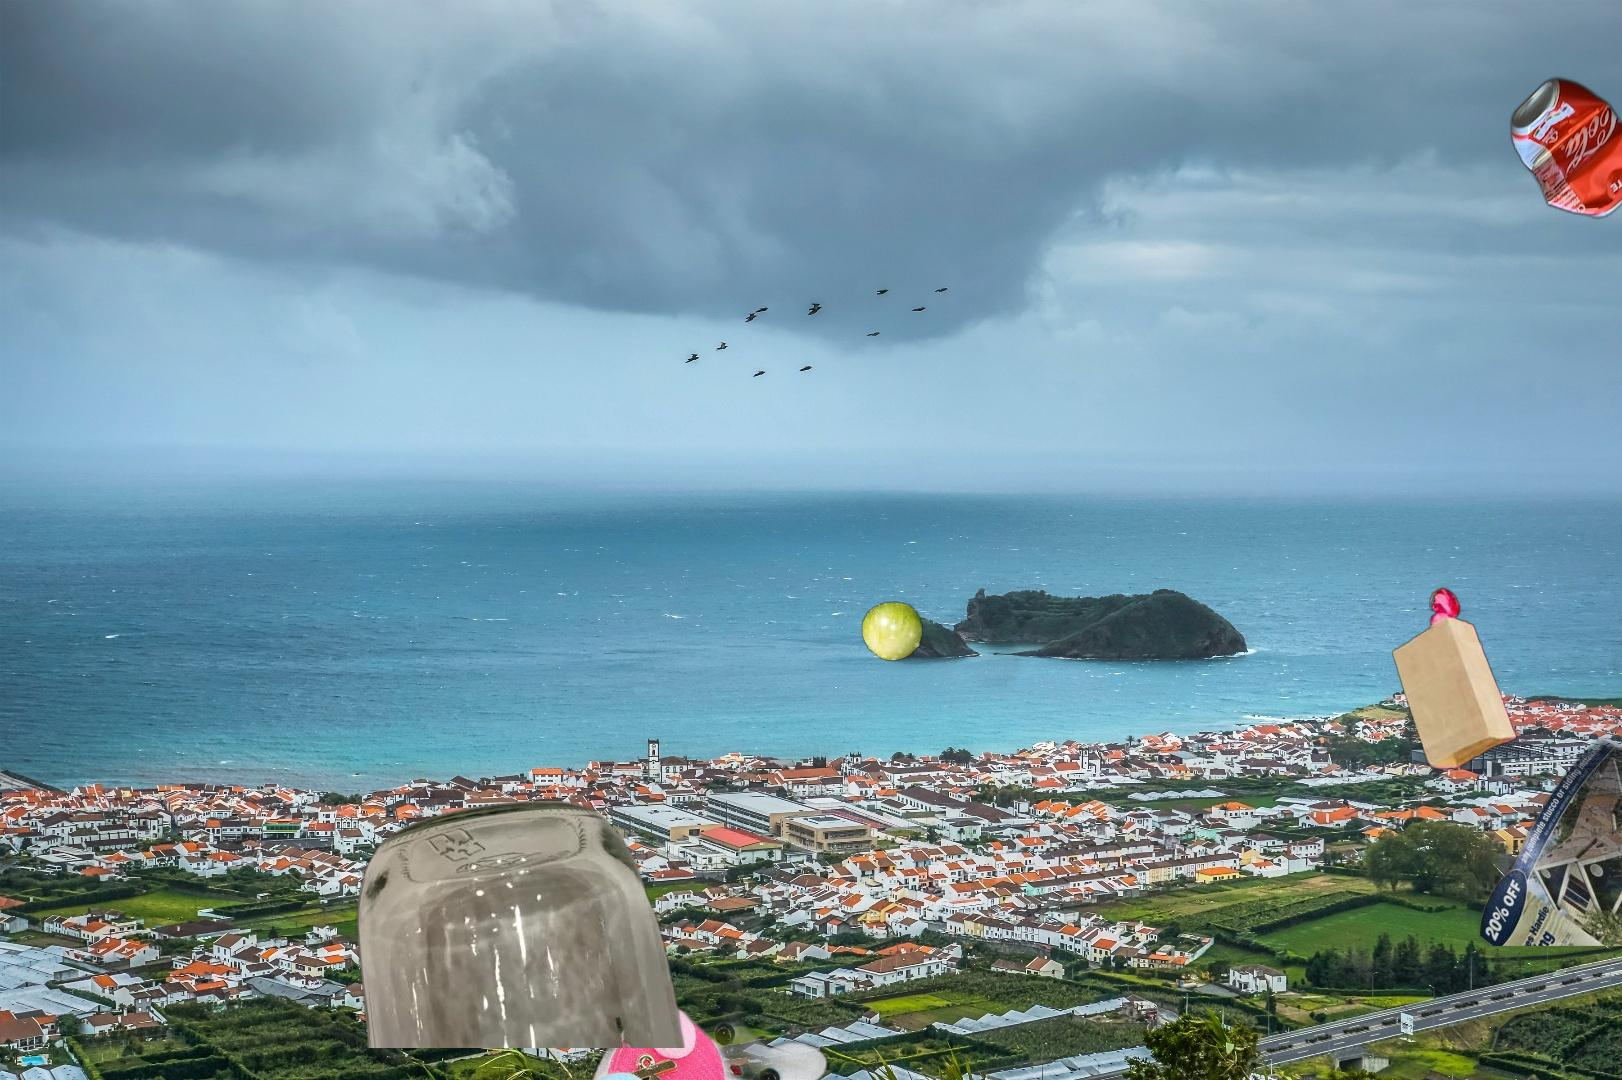biological: (859, 599, 1047, 755)
glass: (352, 797, 689, 1047)
metal-cans: (183, 892, 687, 1080), (1506, 71, 1622, 224)
paper: (1408, 562, 1622, 946)
paper-bag: (1389, 585, 1553, 818)
penholder: (229, 962, 835, 1080)
